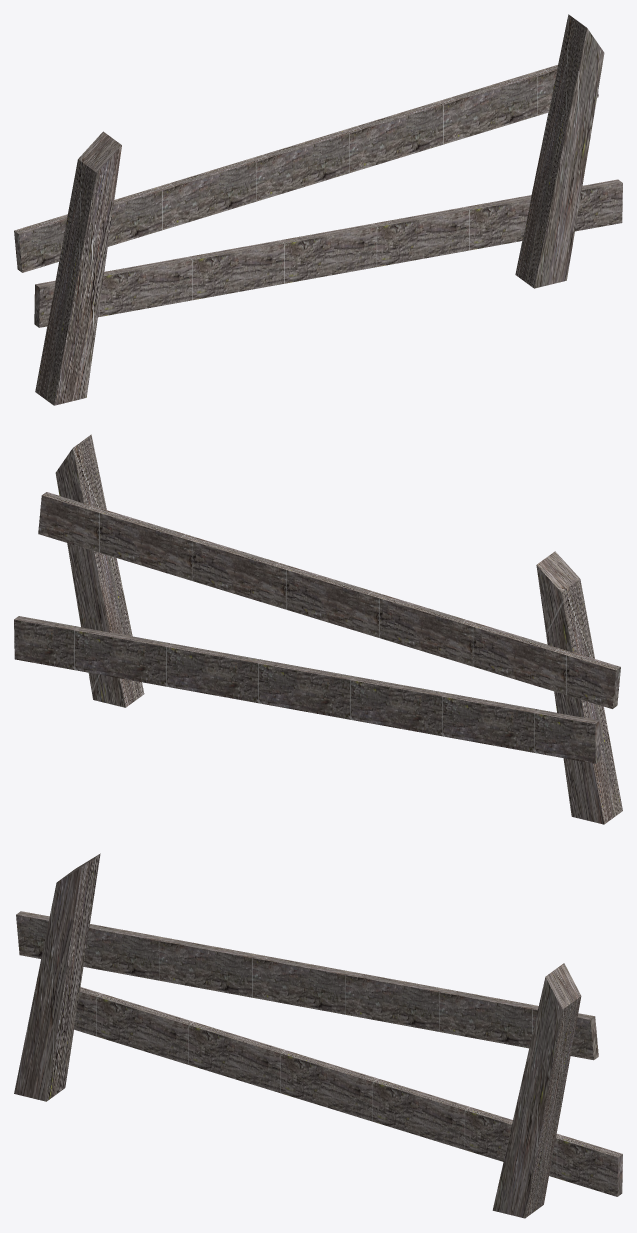
File: cercas.fbx
The picture shows the model from 3 angles, top to bottom: view 1: azimuth 30°, elevation 25°; view 2: azimuth 150°, elevation 25°; view 3: azimuth 330°, elevation 25°; orthographic projection.
Parts seen in each view (by area): view 1: Cubo.002; view 2: Cubo.002; view 3: Cubo.002.
Part boxes in pixels (left/top/right/bottom): Cubo.002: left=14, top=14, right=622, bottom=405; Cubo.002: left=14, top=434, right=622, bottom=824; Cubo.002: left=14, top=853, right=622, bottom=1218.
Bounding box in the file's own units: 1119 × 438 × 75.29.
Materials: 1 (1 with a texture image).
